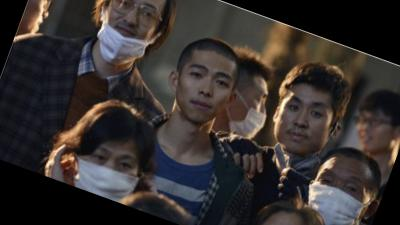with_mask: (67, 136, 149, 206), (298, 161, 375, 225), (220, 81, 277, 143), (247, 215, 320, 225)
without_mask: (266, 89, 340, 166), (168, 57, 239, 132), (349, 108, 398, 158)
